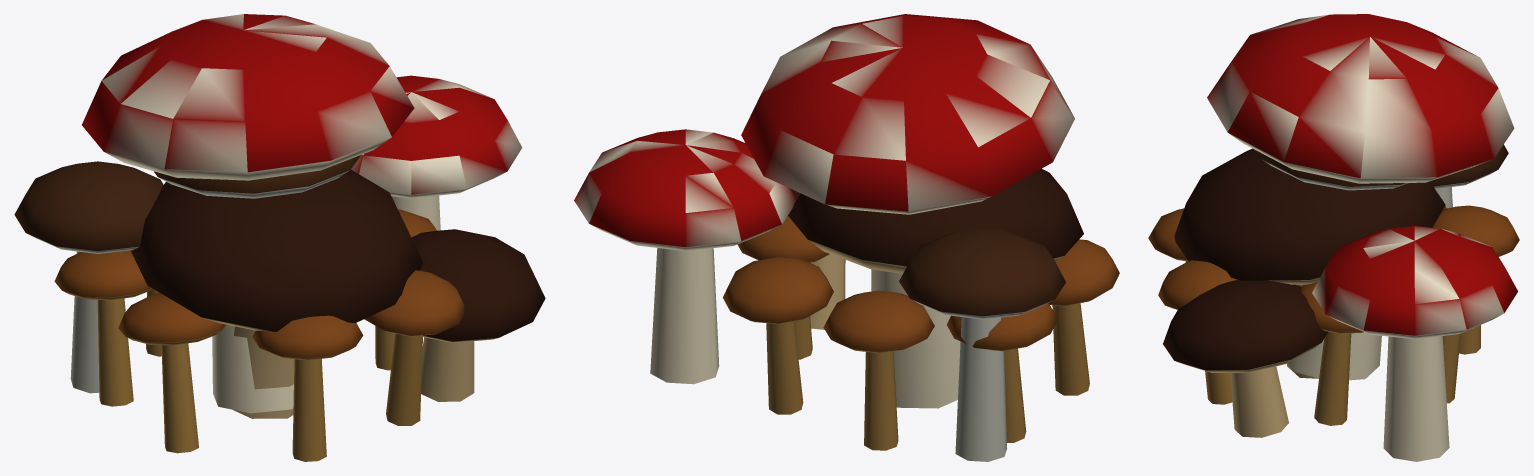
The model's file is mushrooms_wood.glb.
The picture shows the model from 3 angles, left to right: view 1: azimuth 30°, elevation 25°; view 2: azimuth 150°, elevation 25°; view 3: azimuth 270°, elevation 25°; orthographic projection. The views are drawn at different scales.
Parts seen in each view (by area): view 1: mush_a, mush_b, mush_d, mush_c; view 2: mush_a, mush_d, mush_c, mush_b; view 3: mush_a, mush_b, mush_d, mush_c.
Boxes of the visible parts, box(x1,y1,x2,y2) form: mush_a: box(82, 14, 522, 413); mush_b: box(130, 170, 545, 418); mush_d: box(54, 209, 464, 461); mush_c: box(14, 155, 360, 393); mush_a: box(574, 14, 1074, 408); mush_d: box(723, 216, 1119, 450); mush_c: box(899, 228, 1065, 461); mush_b: box(788, 168, 1083, 329); mush_a: box(1207, 14, 1517, 461); mush_b: box(1163, 148, 1445, 437); mush_d: box(1148, 199, 1519, 425); mush_c: box(1255, 144, 1508, 208).
Bounding box in the file's own units: 0.295 × 0.2117 × 0.2162.
